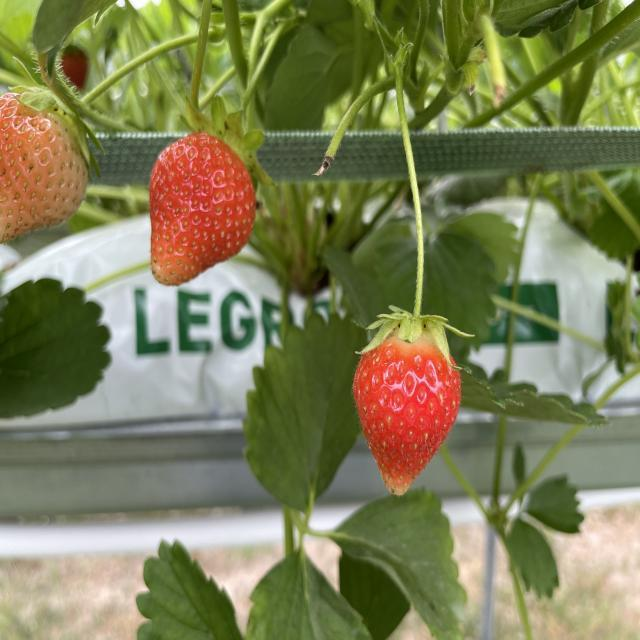stem: (360, 80, 470, 363), (36, 35, 195, 139), (193, 19, 292, 163)
strawberryR: (352, 335, 459, 493), (148, 131, 255, 283), (0, 92, 87, 243)
